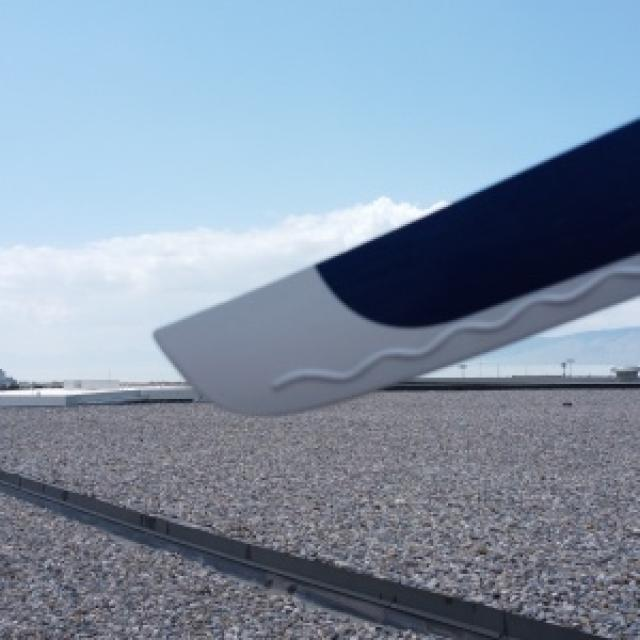healthy: (154, 119, 638, 410)
